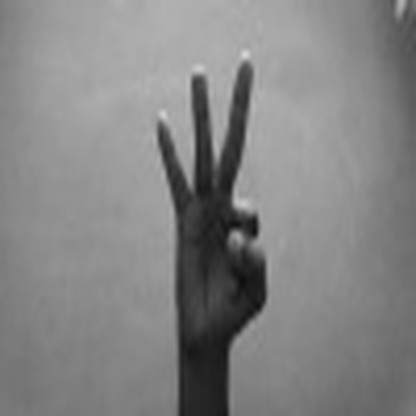f: (137, 52, 299, 331)
